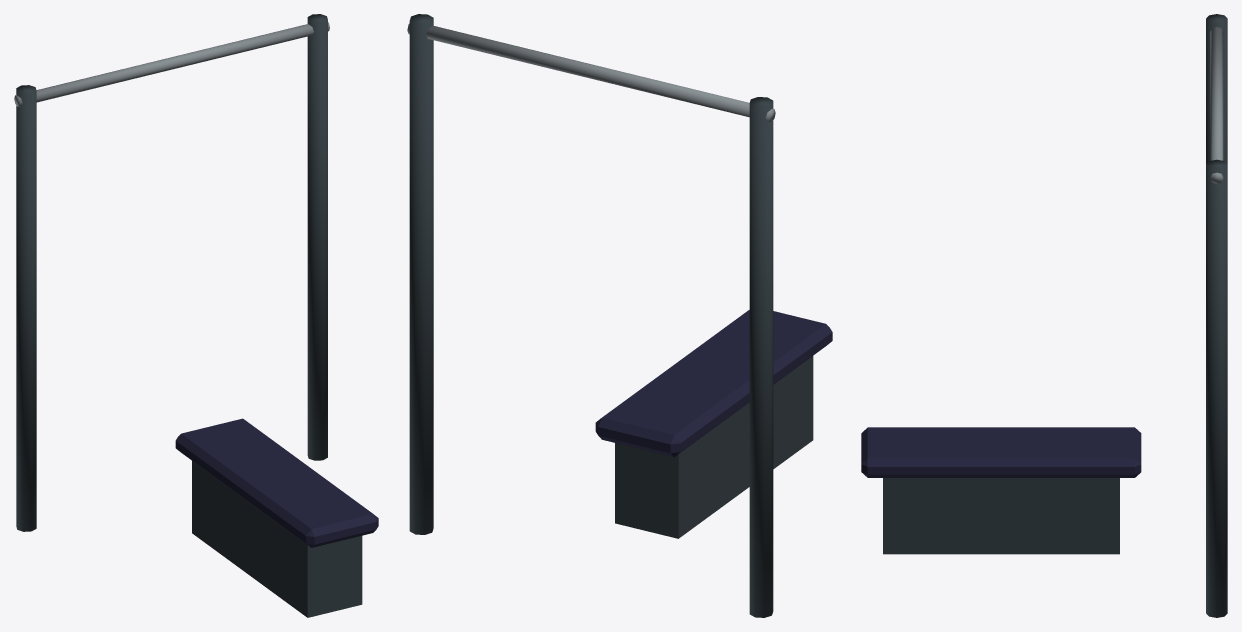
Rendered from fitness_station.glb.
3 views of the same model, side by side, from view 1: azimuth 30°, elevation 25°; view 2: azimuth 150°, elevation 25°; view 3: azimuth 270°, elevation 25° (orthographic). The views are drawn at different scales.
Parts seen in each view (by area): view 1: fitness_station; view 2: fitness_station; view 3: fitness_station.
Boxes of the visible parts, bbox=[...] form: fitness_station: bbox=[14, 14, 378, 617]; fitness_station: bbox=[407, 14, 832, 617]; fitness_station: bbox=[861, 14, 1227, 617].
Bounding box in the file's own units: 1.7 × 2.3 × 1.7.
